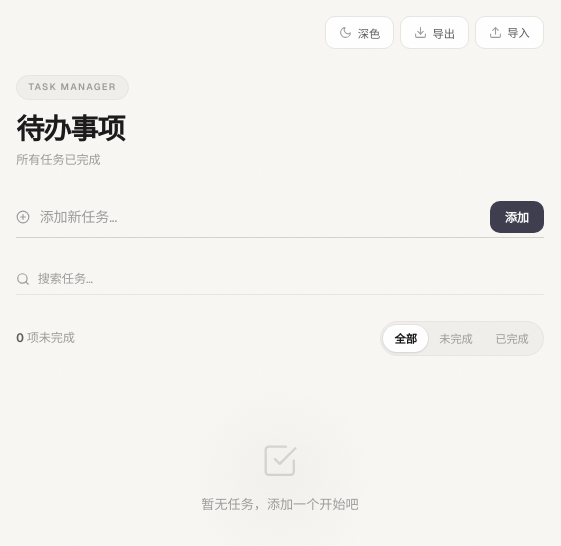
it: TodoApp › should show correct active count
The image size is (561, 546).
Step 1. Type "A" into the field with placeholder "添加新任务..." → (260, 217), box [40,197,480,237]
Then press Enter
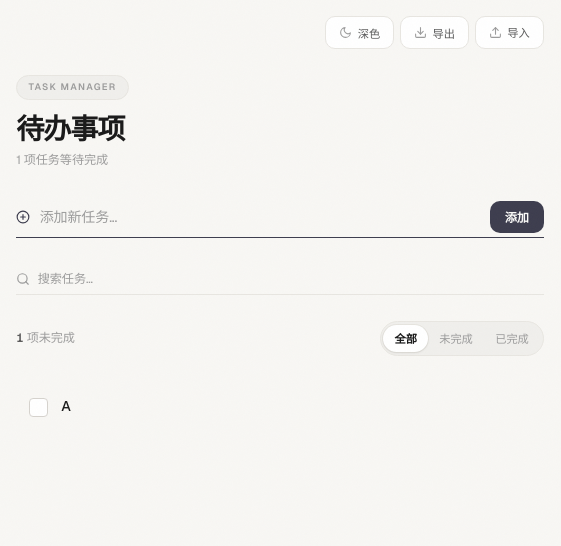
Step 2. Type "B" into the field with placeholder "添加新任务..." → (260, 217), box [40,197,480,237]
Then press Enter
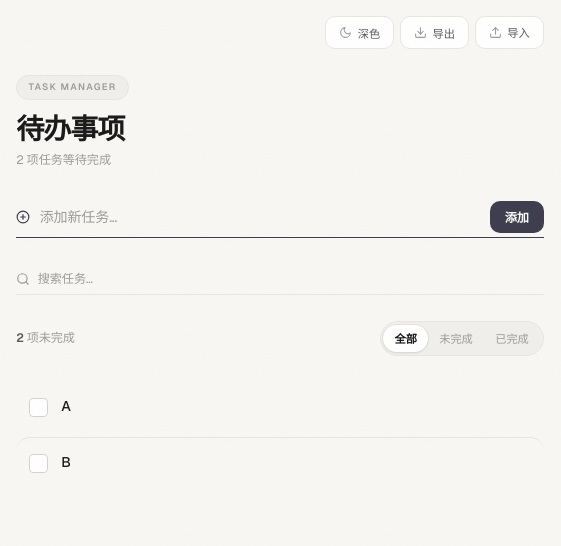
Step 3. Type "C" into the field with placeholder "添加新任务..." → (260, 217), box [40,197,480,237]
Then press Enter
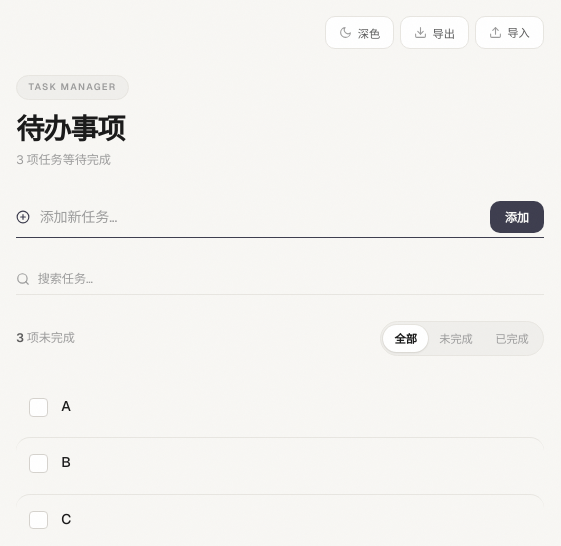
Check: the text "项未完成" is shown, box [24,330,75,346]
Check: the text "3" is shown, box [16,330,24,346]
Step 4. Click the 1st checkbox → (39, 407), box [29,398,48,417]
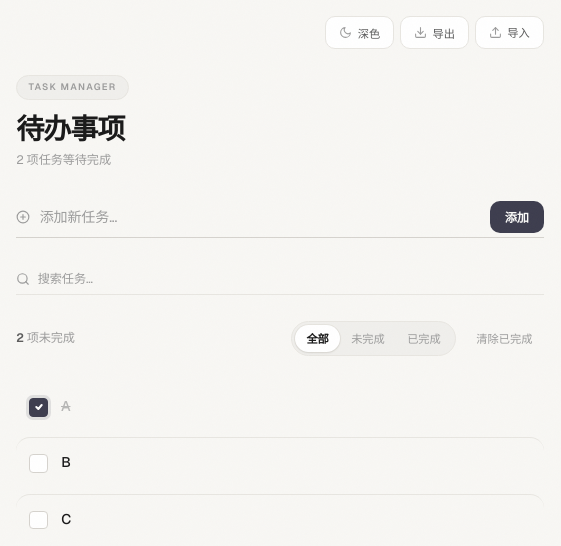
Check: the text "项未完成" is shown, box [24,330,75,346]
Check: the text "2" is shown, box [16,330,24,346]
